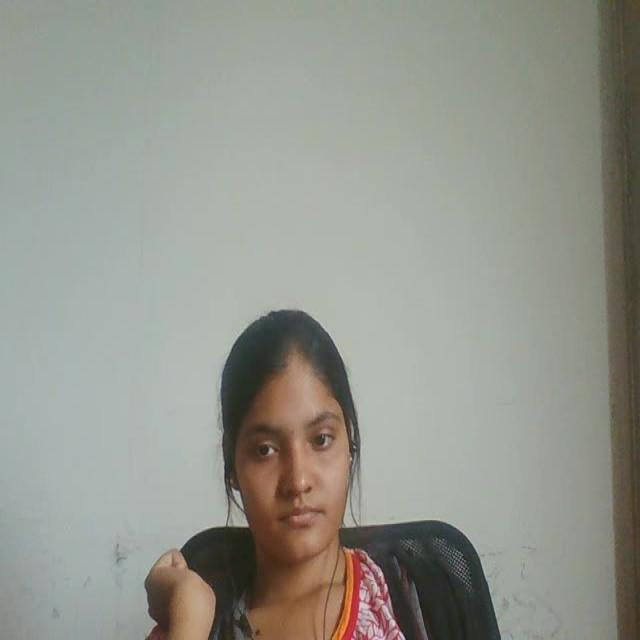Engaged: (194, 268, 380, 566)
